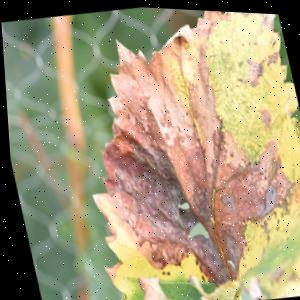Folha: (45, 2, 300, 300)
Fungo: (73, 12, 300, 300), (183, 7, 232, 47), (243, 52, 266, 85), (256, 103, 273, 127), (264, 47, 280, 62), (255, 57, 264, 73)
